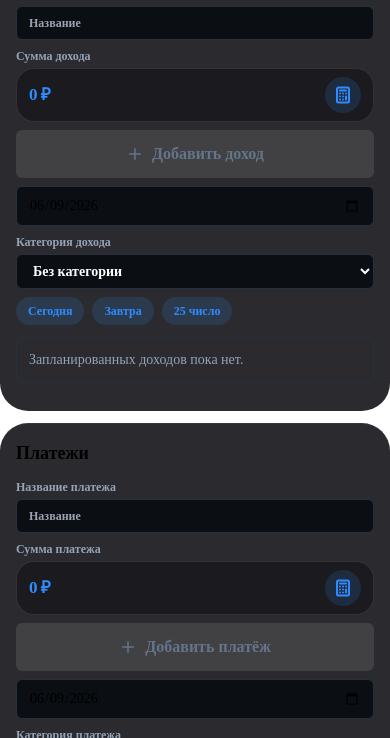
it: PlanScreen › lets the user add, complete, and delete fixed plan items
Type "Зарплата" into the field labelled "Название дохода". click: (195, 23)
box: [16,6,374,40]
Replace the text in the field named "Сумма дохода" with "90000". click: (195, 93)
box: [16,64,374,122]
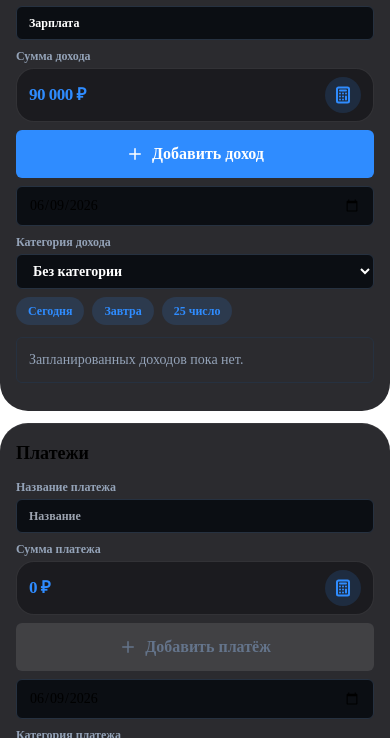
Click the button labelled "Добавить доход". click: click(195, 154)
box: [16,130,374,178]
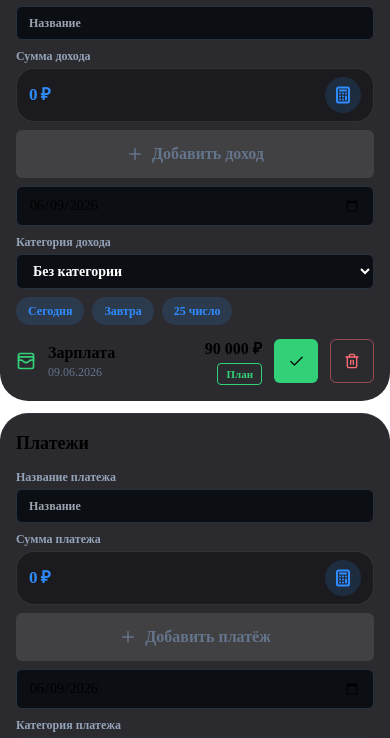
Now the text "90 000 ₽" is shown, box [205,337,262,361]
Now the text "Зарплата" is shown, box [48,344,115,361]
Click the button named "Получено". click: click(296, 361)
box: [274,339,318,383]
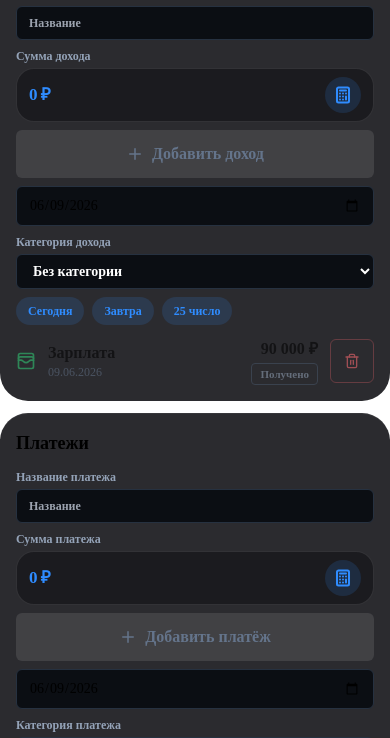
Now the text "Получено" is shown, box [252,363,318,385]
Type "Аренда" into the field labelled "Название платежа". click: (195, 506)
box: [16,489,374,523]
Replace the text in the field named "Сумма платежа" with "35000". click: (195, 576)
box: [16,547,374,605]
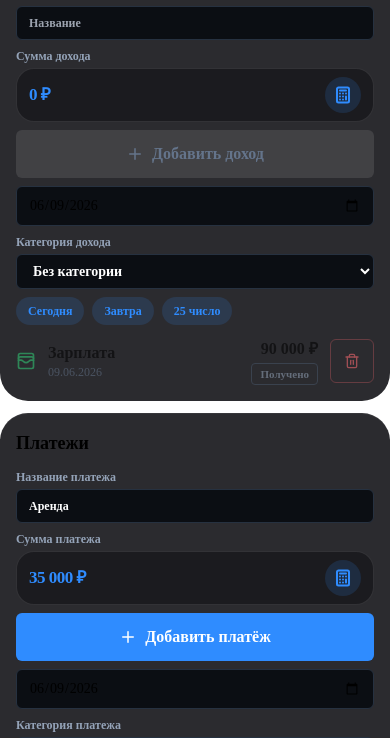
Click the button labelled "Добавить платёж". click: click(195, 637)
box: [16,613,374,661]
(page scrolled)
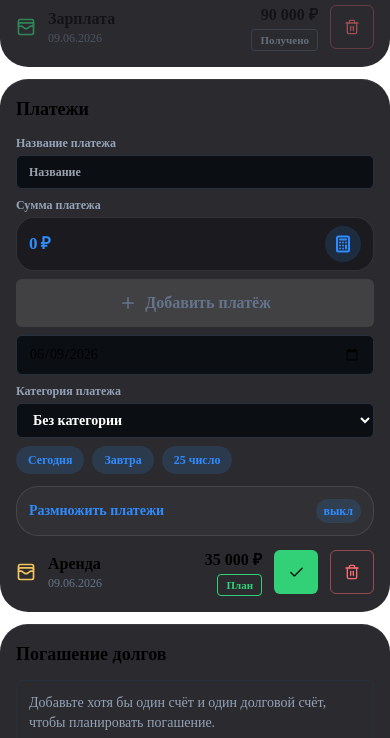
Now the text "35 000 ₽" is shown, box [205,548,262,572]
Now the text "Аренда" is shown, box [48,555,101,572]
Click the button named "Удалить платёж". click: click(352, 572)
box: [330,550,374,594]
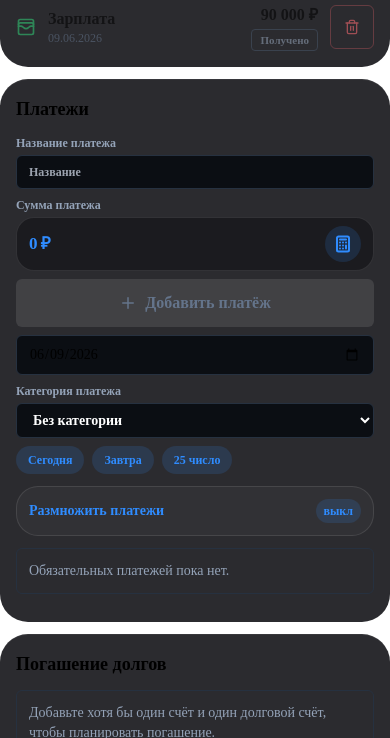
Now the text "Аренда" is gone
